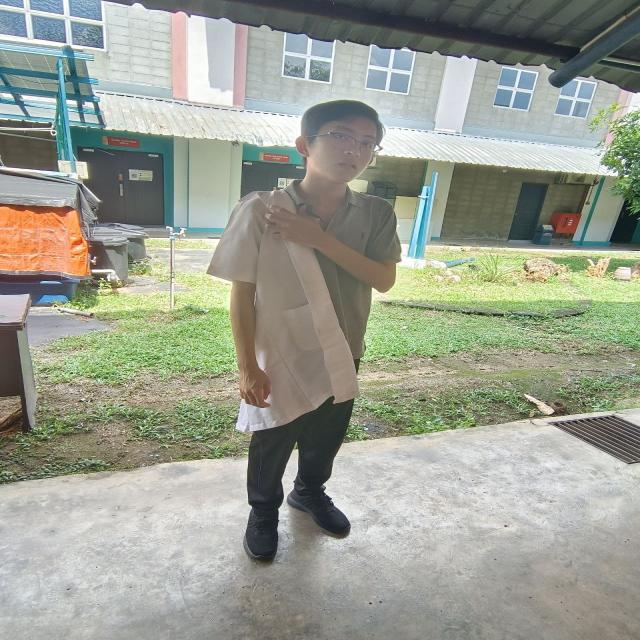person_without_labcoat: (209, 100, 400, 560)
